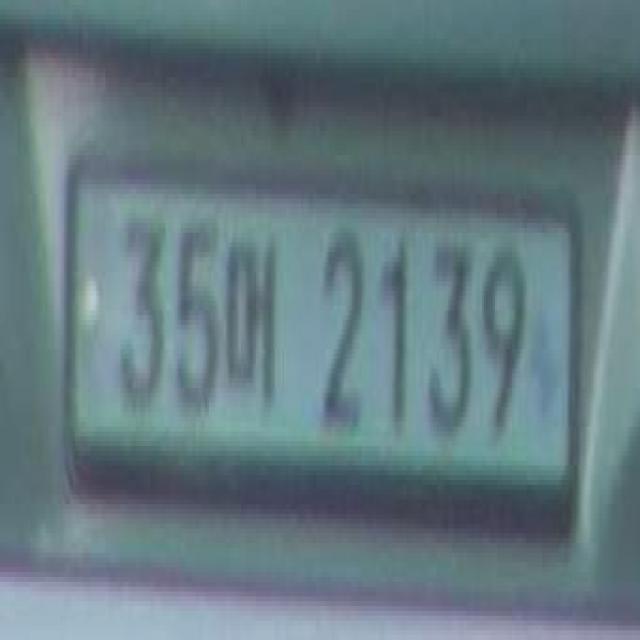EV_plate: (65, 138, 593, 562)
